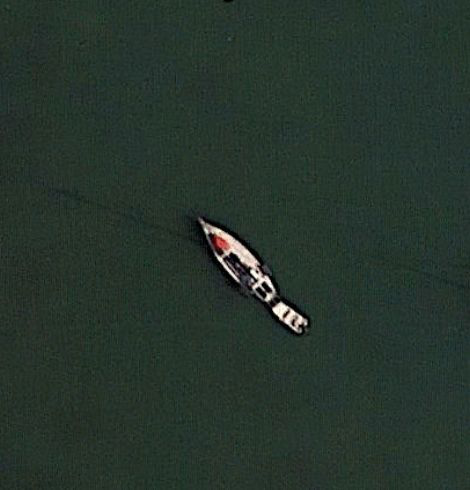boat: (194, 209, 309, 336)
